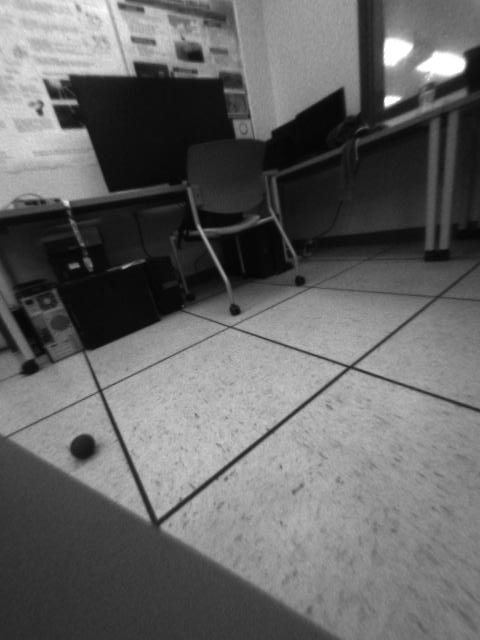dogtoy: (64, 427, 106, 467)
